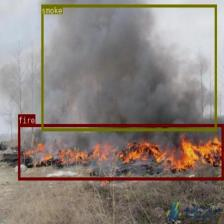fire: (18, 124, 224, 180)
smoke: (41, 4, 216, 131)
